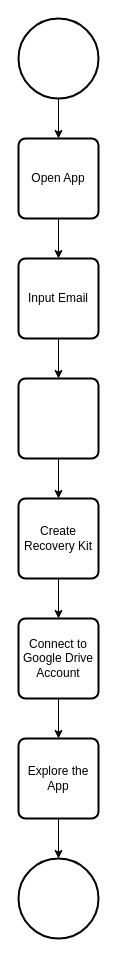
Image size: 116x956. Some labels were removed from this diagram. Each missing label, with the box of its shape:
Add Biometric in App: (17, 377, 99, 459)
End: (17, 857, 99, 939)
Start: (17, 17, 99, 99)
